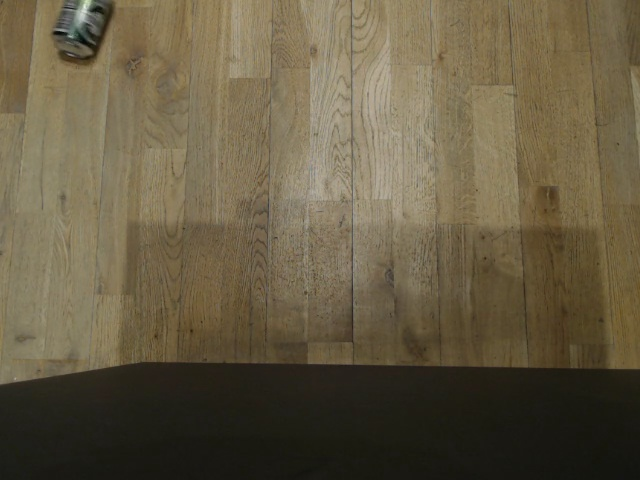beer: (50, 0, 112, 64)
